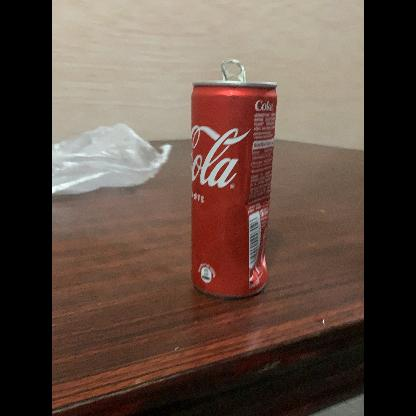Dent_Can: (242, 187, 270, 217), (242, 251, 266, 283)
Lid_Open: (220, 50, 260, 88)
Tin_Can: (192, 52, 284, 310)
